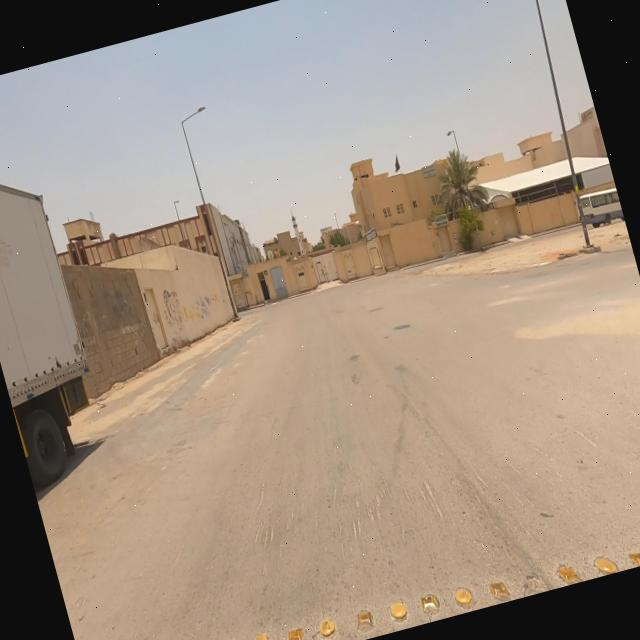Graffiti: (156, 274, 224, 332), (104, 286, 132, 318), (149, 308, 162, 329)
